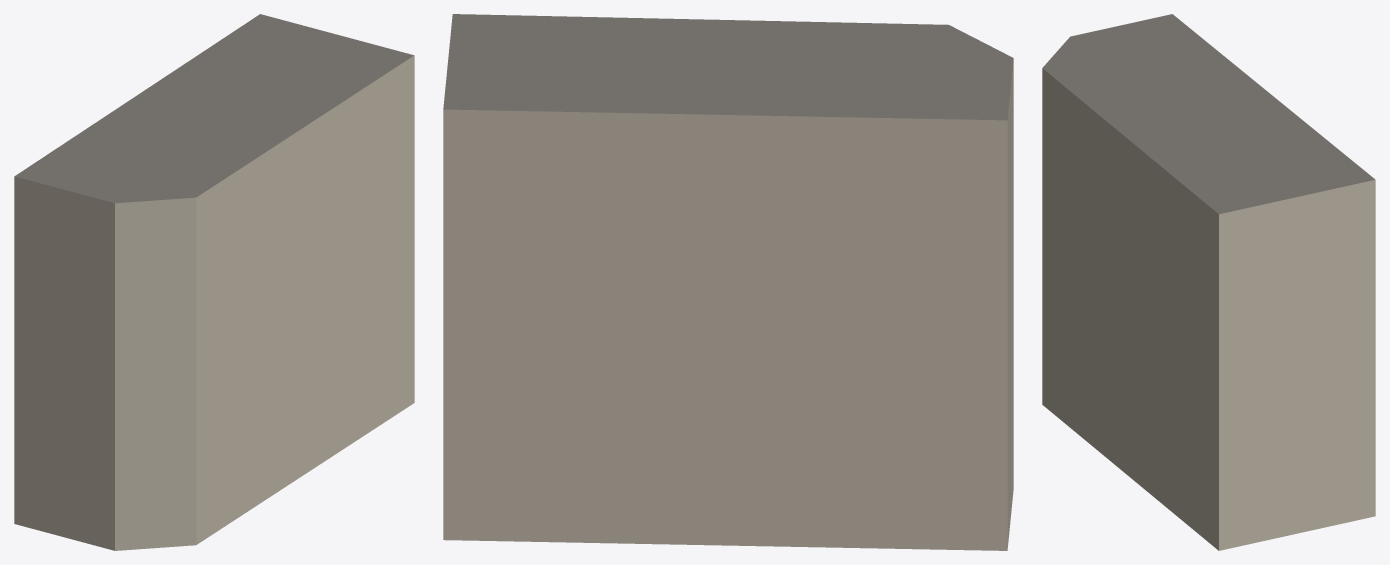
The picture shows the model from 3 angles, left to right: view 1: azimuth 30°, elevation 25°; view 2: azimuth 150°, elevation 25°; view 3: azimuth 270°, elevation 25°; orthographic projection. The views are drawn at different scales.
Parts seen in each view (by area): view 1: HP-w369237996; view 2: HP-w369237996; view 3: HP-w369237996.
Part boxes in pixels (x1,y1,x2,y2): HP-w369237996: [14, 14, 414, 550]; HP-w369237996: [443, 14, 1013, 550]; HP-w369237996: [1042, 14, 1375, 550].
Bounding box in the file's own units: 22.97 × 18 × 16.15.
